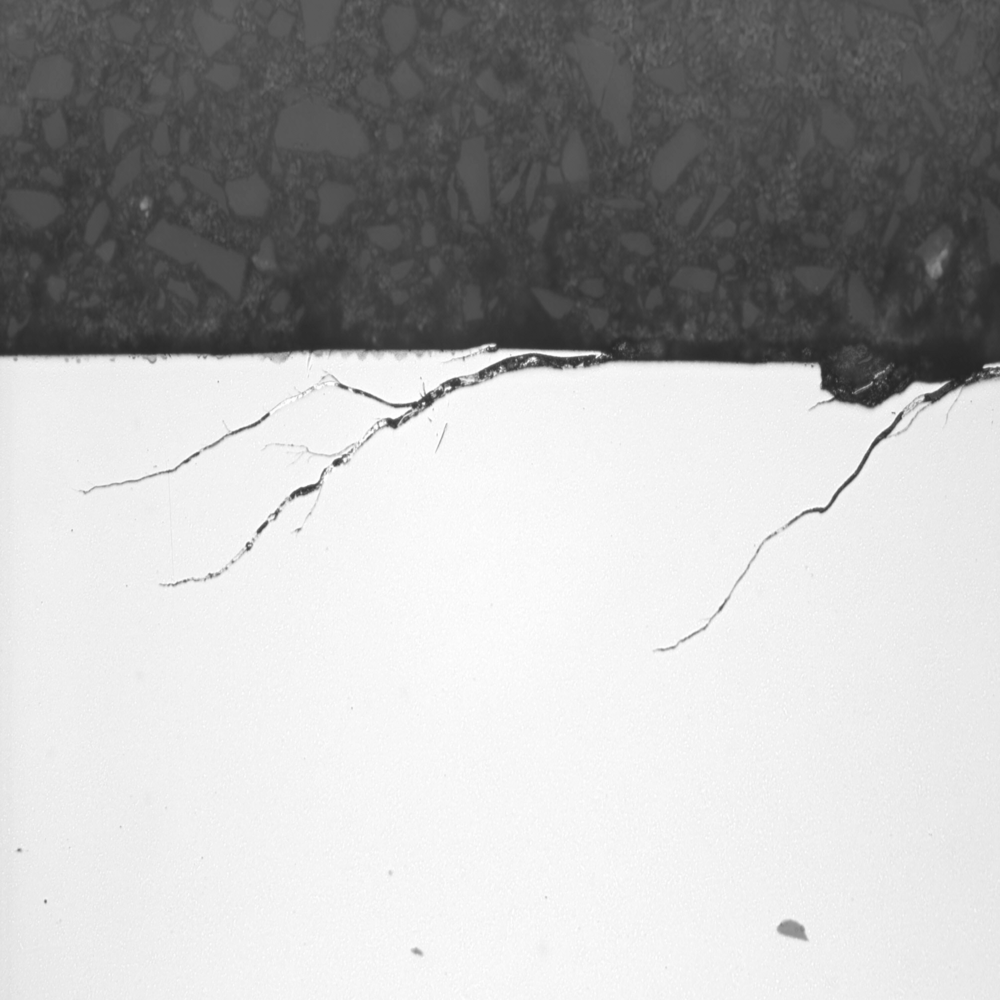crack: (66, 344, 644, 603), (641, 362, 994, 668)
